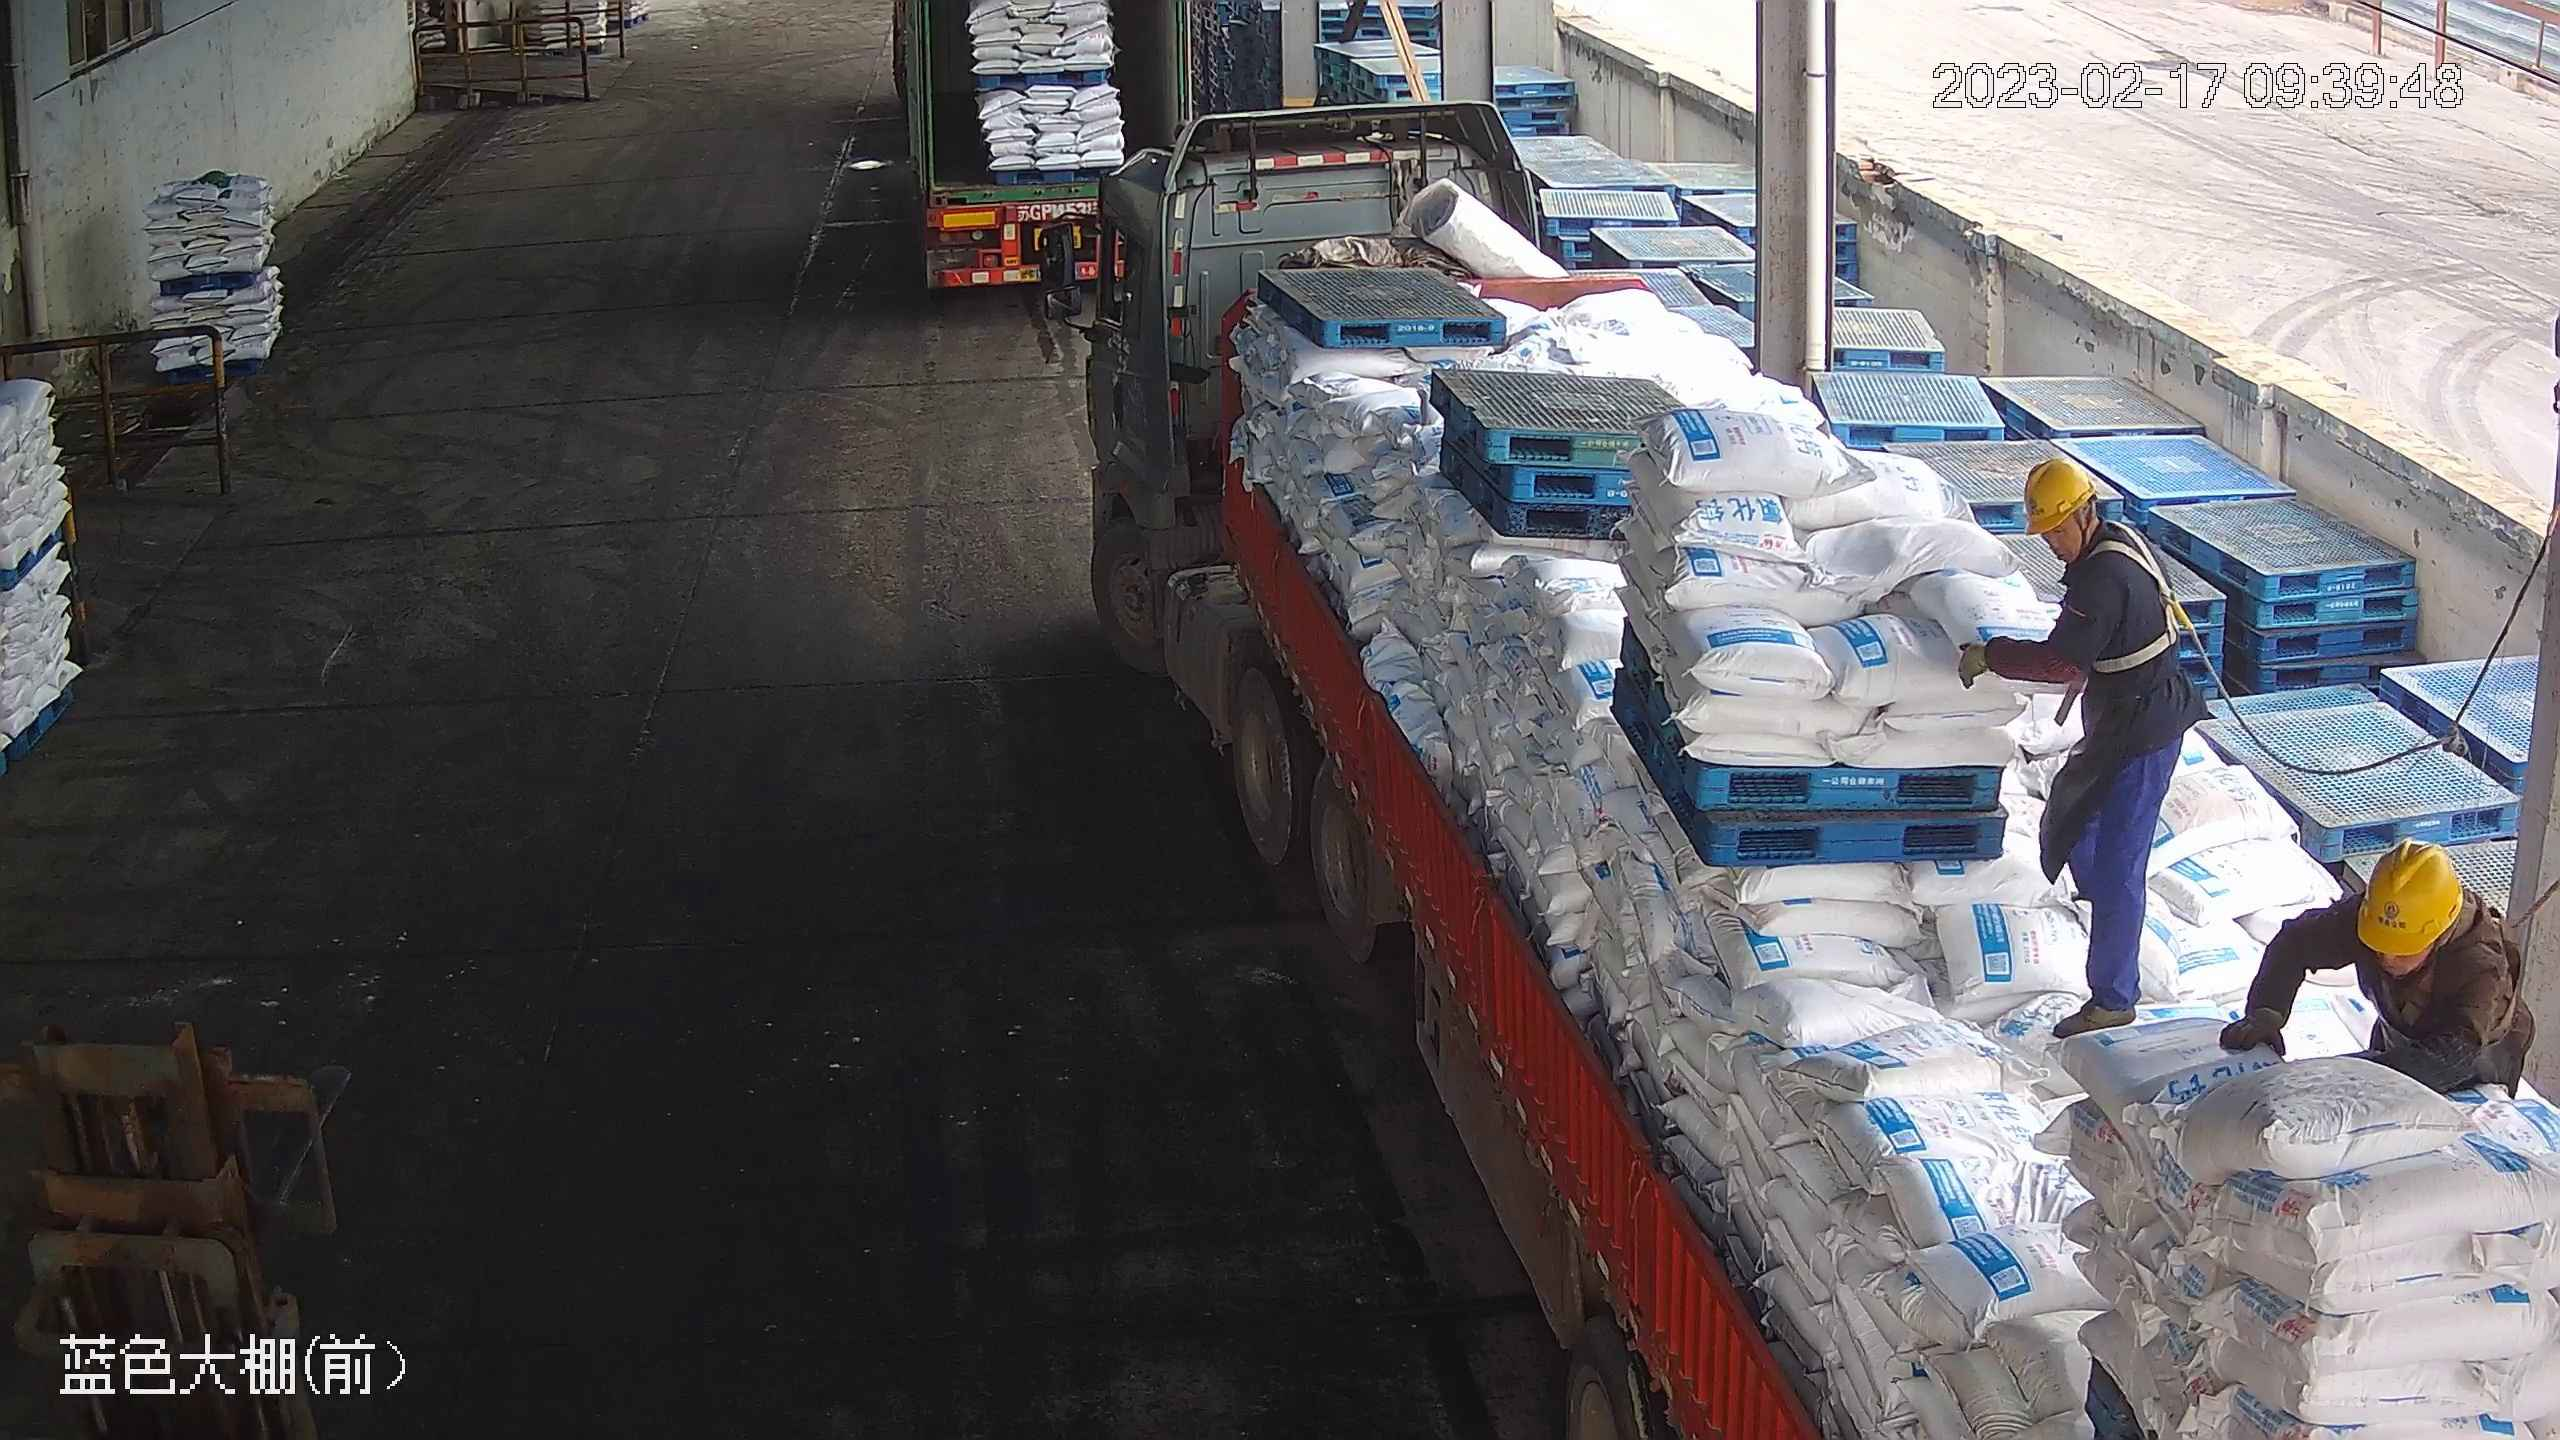belt: (2362, 885, 2531, 1028), (2087, 532, 2199, 675)
head: (2291, 835, 2521, 1006), (2019, 456, 2178, 622)
helmet: (2355, 837, 2465, 955), (2019, 453, 2102, 534)
people: (1955, 454, 2201, 1045), (2227, 830, 2540, 1140)
truck: (1037, 97, 2556, 1440), (891, 1, 1178, 294)
